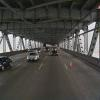Bridge: (1, 2, 87, 45)
